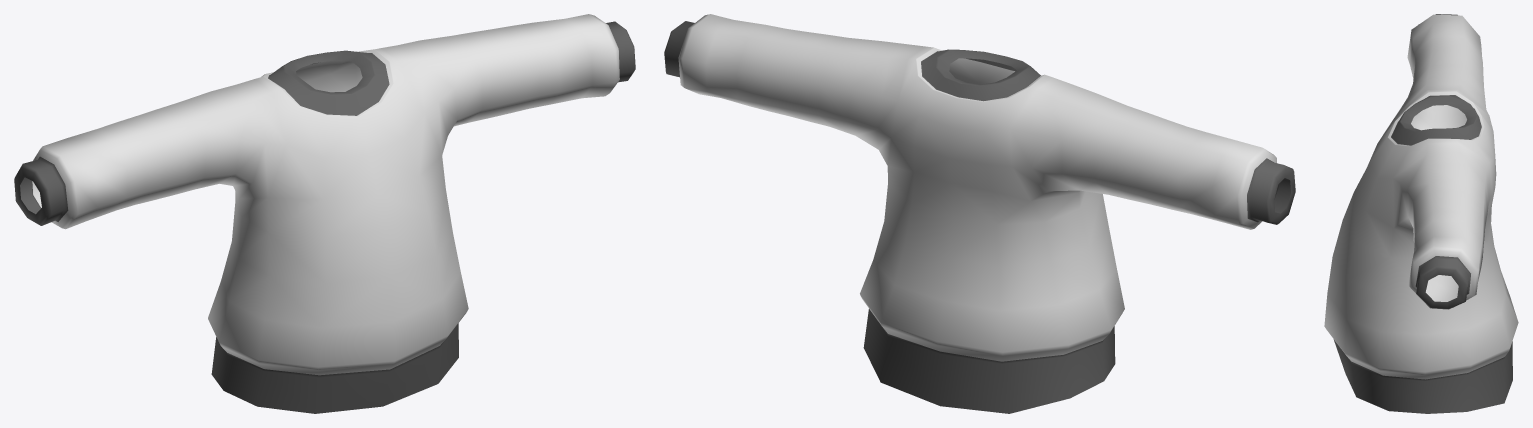
The model's file is Outerwear_White_016.glb.
The picture shows the model from 3 angles, left to right: view 1: azimuth 30°, elevation 25°; view 2: azimuth 150°, elevation 25°; view 3: azimuth 270°, elevation 25°; orthographic projection. The views are drawn at different scales.
Parts seen in each view (by area): view 1: Outerwear_White_016; view 2: Outerwear_White_016; view 3: Outerwear_White_016.
Part boxes in pixels (x1=…): Outerwear_White_016: x1=14, y1=14, x2=635, y2=413; Outerwear_White_016: x1=664, y1=14, x2=1295, y2=413; Outerwear_White_016: x1=1324, y1=14, x2=1518, y2=413.
Bounding box in the file's own units: 1.29 × 0.637 × 0.4186.
Materials: 1 (1 with a texture image).
